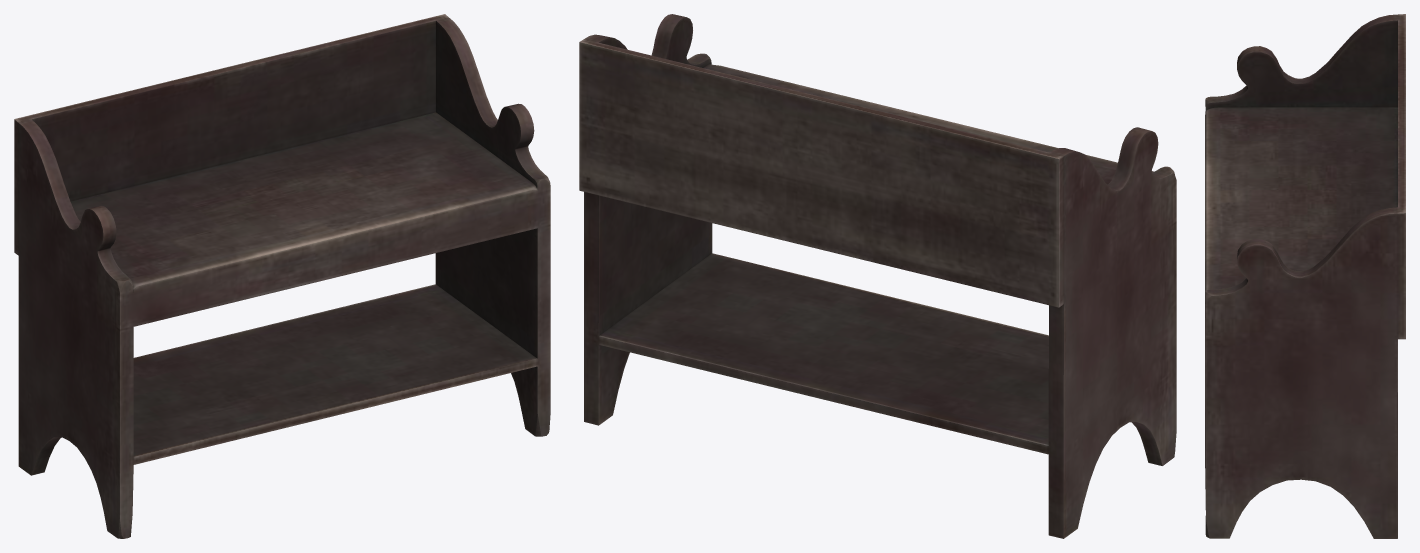
The model's file is bench.glb.
3 views of the same model, side by side, from view 1: azimuth 30°, elevation 25°; view 2: azimuth 150°, elevation 25°; view 3: azimuth 270°, elevation 25° (orthographic). The views are drawn at different scales.
Bounding box in the file's own units: 1.16 × 0.8893 × 0.4965.
1 material, 1 textured.
